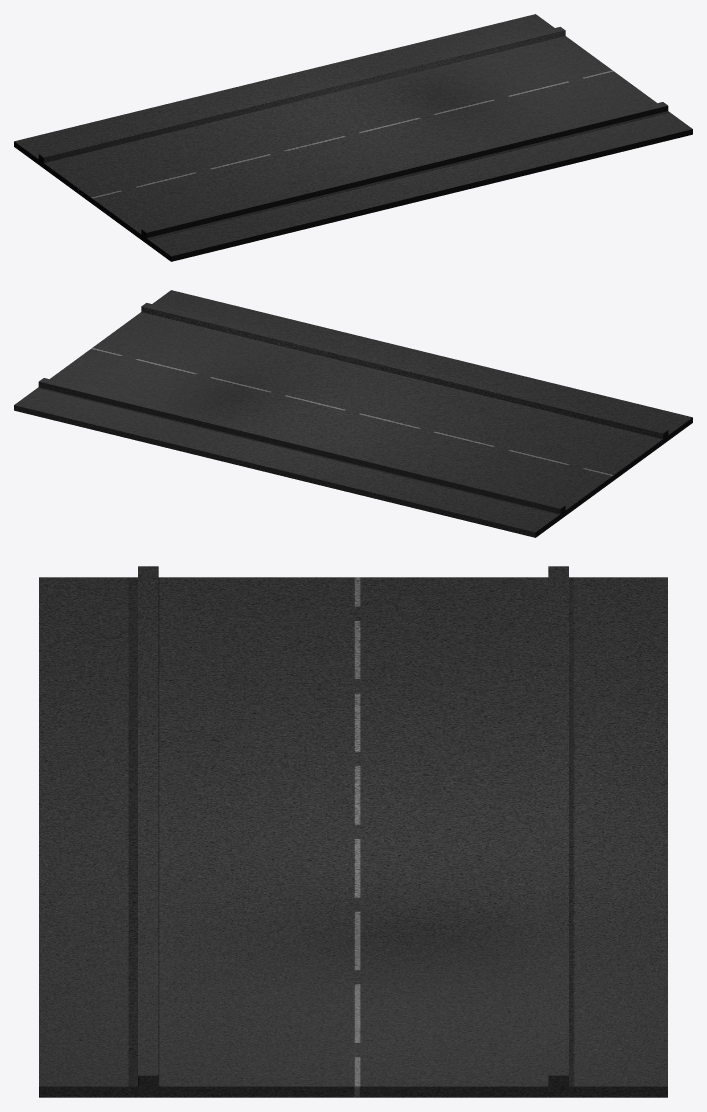
File: Road_straight.fbx
3 views of the same model, one above another, from view 1: azimuth 30°, elevation 25°; view 2: azimuth 150°, elevation 25°; view 3: azimuth 270°, elevation 25° (orthographic). The views are drawn at different scales.
Visible parts, largest first — view 1: Cube; view 2: Cube; view 3: Cube.
Part boxes in pixels (x1,y1,x2,y2): Cube: (14,14,692,261); Cube: (14,290,692,537); Cube: (39,566,667,1097).
Size of the model in its own units: 2000 by 40 by 1044.
1 material, 1 textured.
